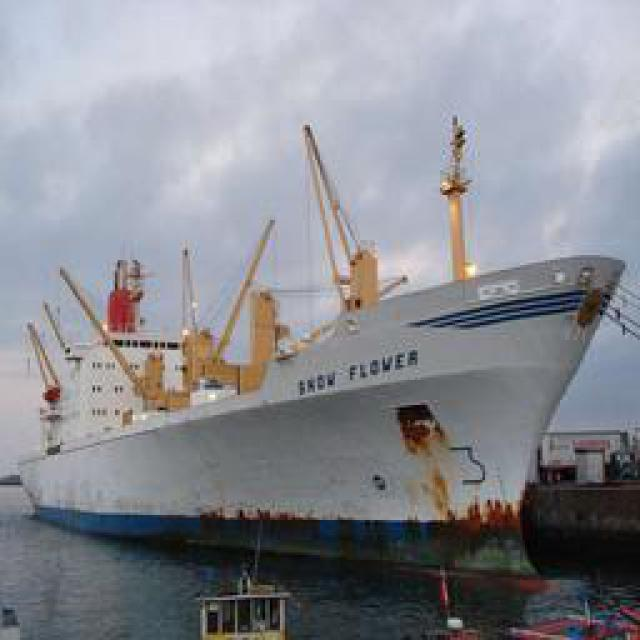Ship: (18, 234, 626, 557)
